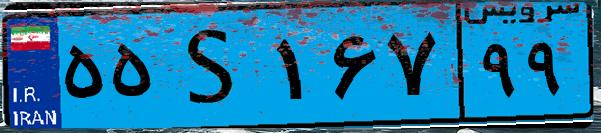1: (270, 28, 330, 110)
5: (57, 26, 110, 100), (110, 28, 158, 98)
6: (330, 28, 385, 110)
7: (385, 28, 445, 110)
9: (475, 38, 525, 113), (525, 38, 570, 115)
S: (158, 12, 270, 120)
